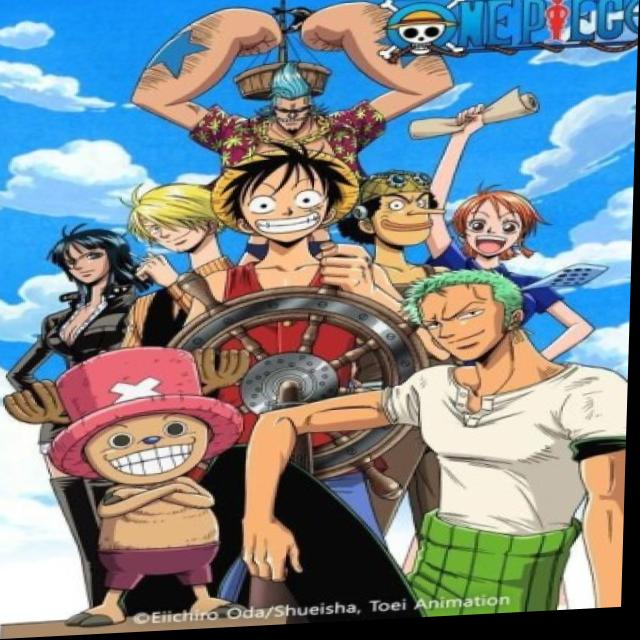Chyopa: (9, 329, 271, 639)
Franky: (260, 62, 324, 140)
Luffy: (214, 139, 352, 255)
Nami: (445, 192, 552, 279)
NicoRobin: (53, 218, 131, 302)
Sangdi: (124, 185, 209, 261)
Usopp: (352, 165, 455, 255)
Zoro: (402, 271, 549, 370)
